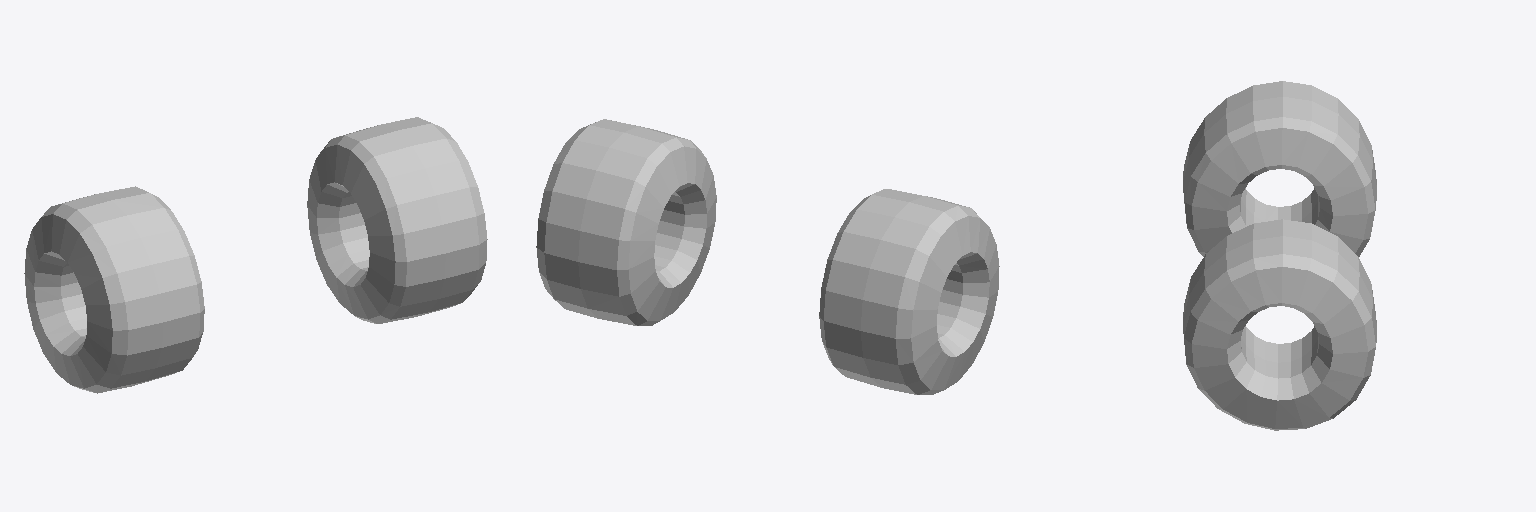
Rendered from 2wheels.obj.
3 renders of one model, left to right at view 1: azimuth 30°, elevation 25°; view 2: azimuth 150°, elevation 25°; view 3: azimuth 270°, elevation 25°, orthographic.
Visible parts, largest first — view 1: pasted__group98 pasted__nurbsCircle1 pasted__Drive_ctrl pasted__, body3:BUCR1:fLtyre body3:BUCR1:l_FrontWheelGrp pasted__lfwheelct; view 2: pasted__group98 pasted__nurbsCircle1 pasted__Drive_ctrl pasted__, body3:BUCR1:fLtyre body3:BUCR1:l_FrontWheelGrp pasted__lfwheelct; view 3: pasted__group98 pasted__nurbsCircle1 pasted__Drive_ctrl pasted__, body3:BUCR1:fLtyre body3:BUCR1:l_FrontWheelGrp pasted__lfwheelct.
Part boxes in pixels (bbox=[...]): pasted__group98 pasted__nurbsCircle1 pasted__Drive_ctrl pasted__: bbox=[307, 117, 487, 323]; body3:BUCR1:fLtyre body3:BUCR1:l_FrontWheelGrp pasted__lfwheelct: bbox=[24, 186, 204, 393]; pasted__group98 pasted__nurbsCircle1 pasted__Drive_ctrl pasted__: bbox=[536, 119, 716, 325]; body3:BUCR1:fLtyre body3:BUCR1:l_FrontWheelGrp pasted__lfwheelct: bbox=[819, 189, 999, 394]; pasted__group98 pasted__nurbsCircle1 pasted__Drive_ctrl pasted__: bbox=[1183, 219, 1376, 430]; body3:BUCR1:fLtyre body3:BUCR1:l_FrontWheelGrp pasted__lfwheelct: bbox=[1183, 81, 1376, 256].
Size of the model in its own units: 4.75 by 2.08 by 2.05.